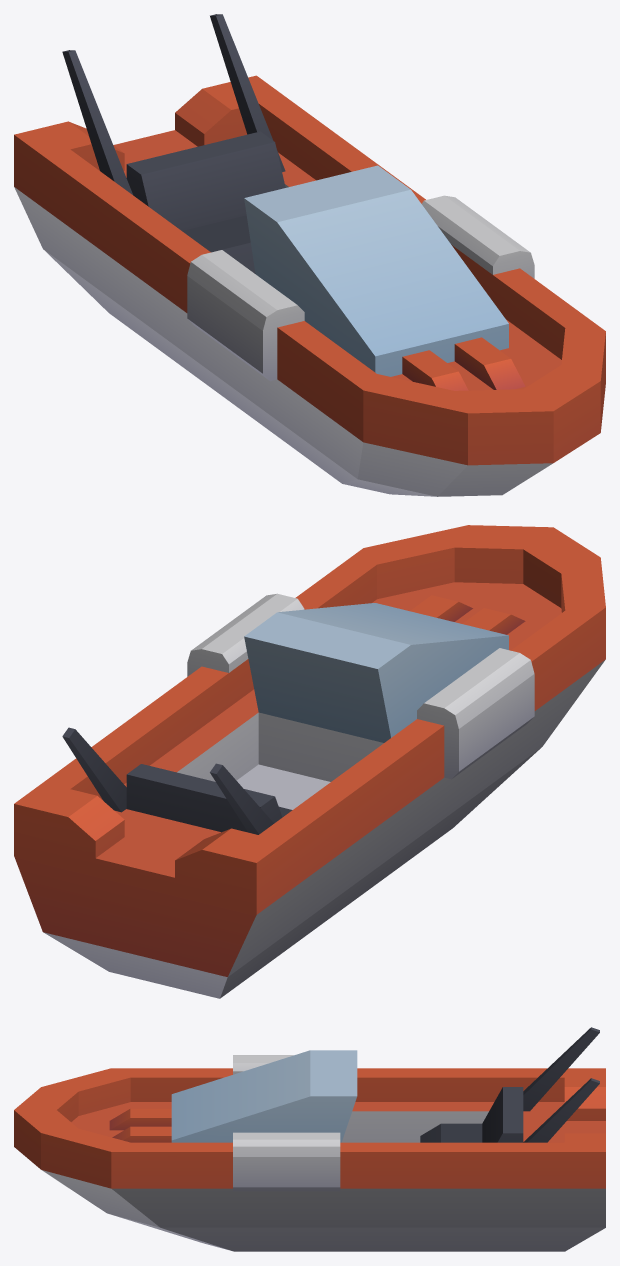
Rendered from speedboat.glb.
3 views of the same model, one above another, from view 1: azimuth 30°, elevation 25°; view 2: azimuth 150°, elevation 25°; view 3: azimuth 270°, elevation 25° (orthographic). The views are drawn at different scales.
Parts seen in each view (by area): view 1: speedboat; view 2: speedboat; view 3: speedboat.
Part boxes in pixels (bbox=[...]): speedboat: bbox=[14, 14, 605, 496]; speedboat: bbox=[14, 525, 605, 998]; speedboat: bbox=[14, 1027, 605, 1251].
Bounding box in the file's own units: 2.7 × 2.4 × 7.2.
